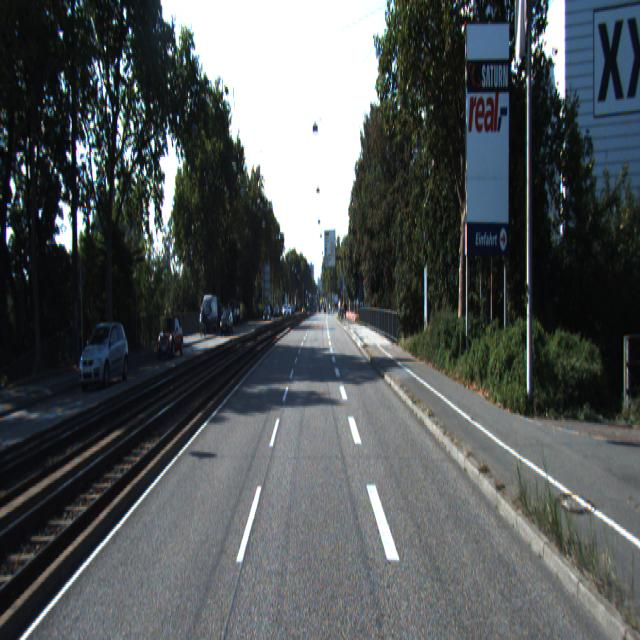Car: (79, 321, 131, 392), (156, 317, 185, 361)
